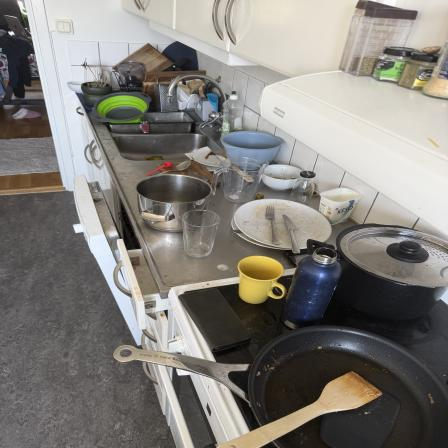blue_bottle: (291, 247, 337, 329)
phone: (172, 286, 255, 354)
yellow_cup: (236, 254, 286, 306)
